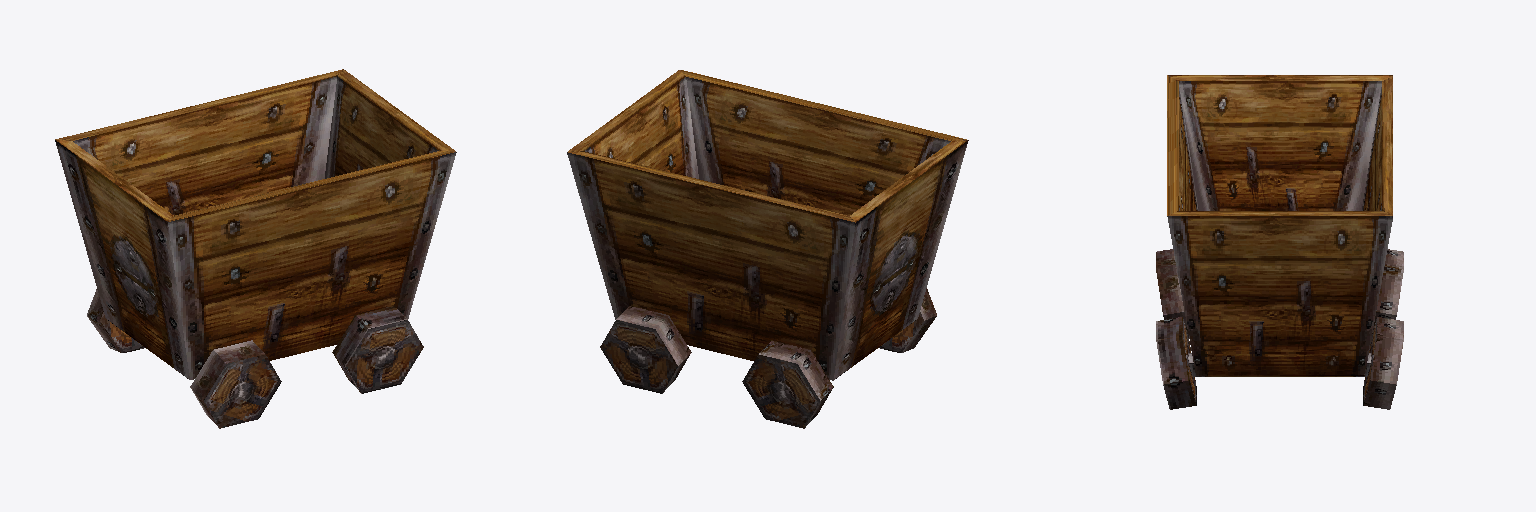
3 views of the same model, side by side, from view 1: azimuth 30°, elevation 25°; view 2: azimuth 150°, elevation 25°; view 3: azimuth 270°, elevation 25° (orthographic).
Parts seen in each view (by area): view 1: object 1; view 2: object 1; view 3: object 1.
Boxes of the visible parts, x1,y1,x2,y2 form: object 1: [55, 69, 456, 428]; object 1: [567, 70, 968, 428]; object 1: [1156, 75, 1403, 409].
Bounding box in the file's own units: 2.05 × 1.49 × 1.52.
3 materials, 3 textured.